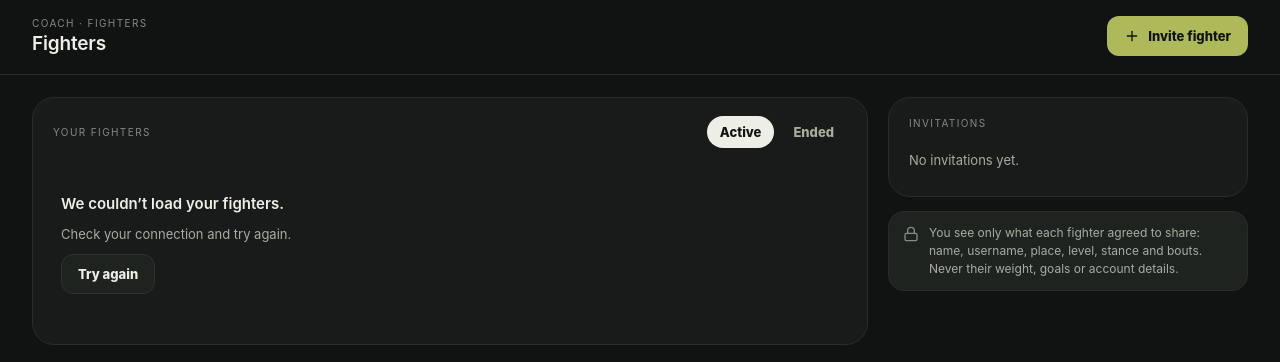
CoachFighters (WC7) roster › offers a retry when the roster fails to load
The width and height of the screenshot is (1280, 362).
Check: the text "We couldn’t load your fighters." is shown, box left=61, top=194, right=284, bottom=214
Click the button "Try again": (108, 274) left=61, top=254, right=155, bottom=294
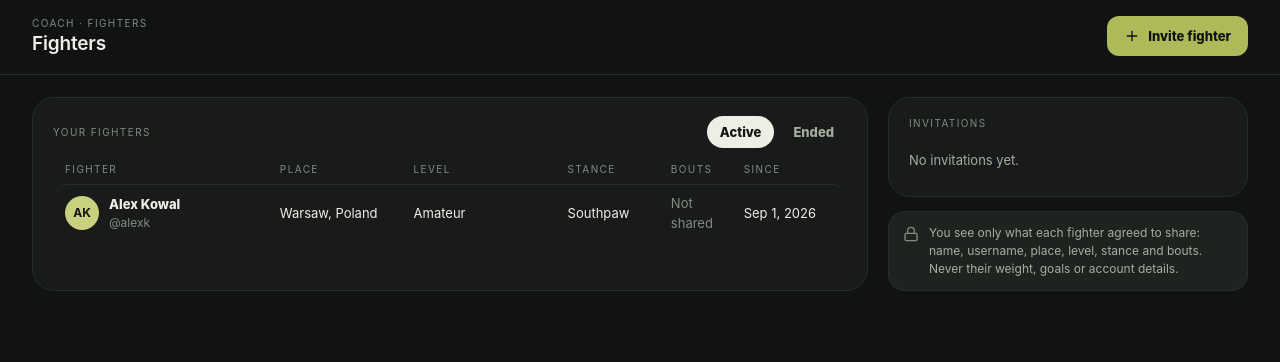
Check: the row "Alex Kowal" is shown, box left=53, top=184, right=847, bottom=241
